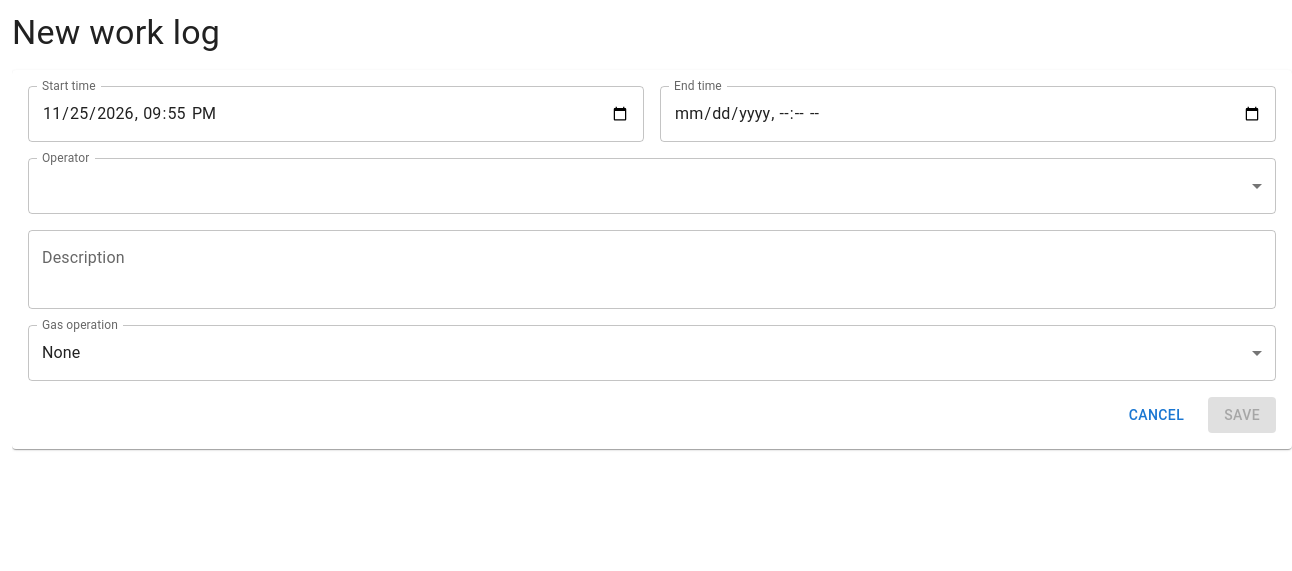
Test case: WorkLogPage › blocks a gas operation when the locked refrigerator was replaced
The width and height of the screenshot is (1292, 571).
Expected: the heading "New work log" is shown, x1=12 y1=12 x2=220 y2=52
Press the mouse on the dropdown named "Gas operation": (61, 353) x1=42 y1=344 x2=80 y2=362
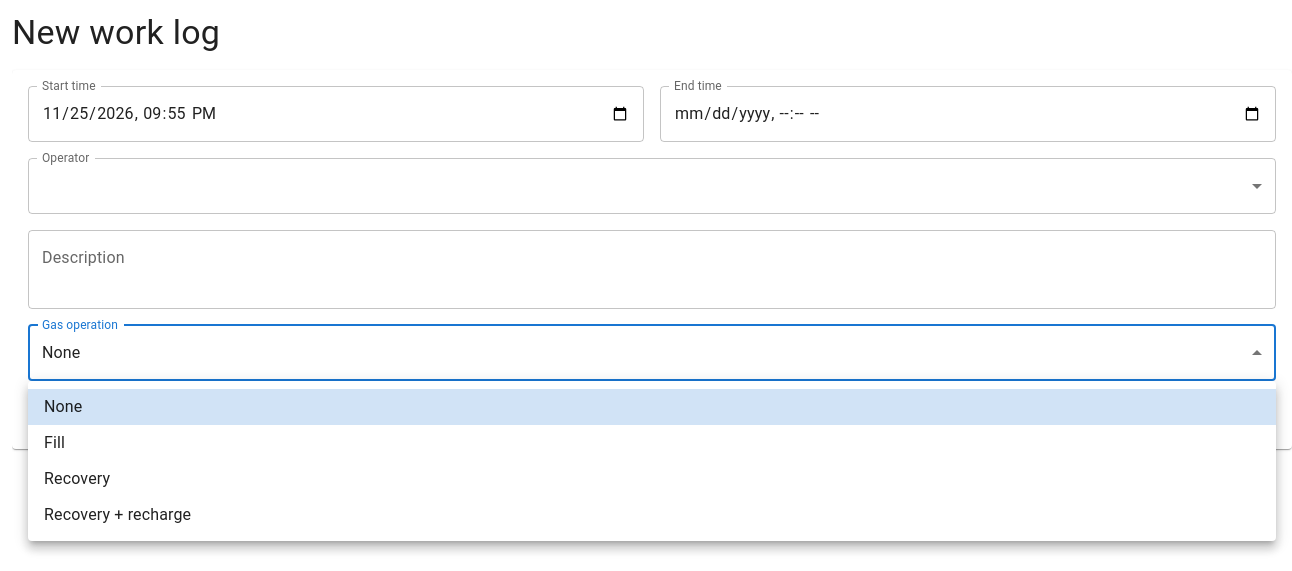
Click the option "Recovery": (77, 478) x1=44 y1=469 x2=110 y2=488
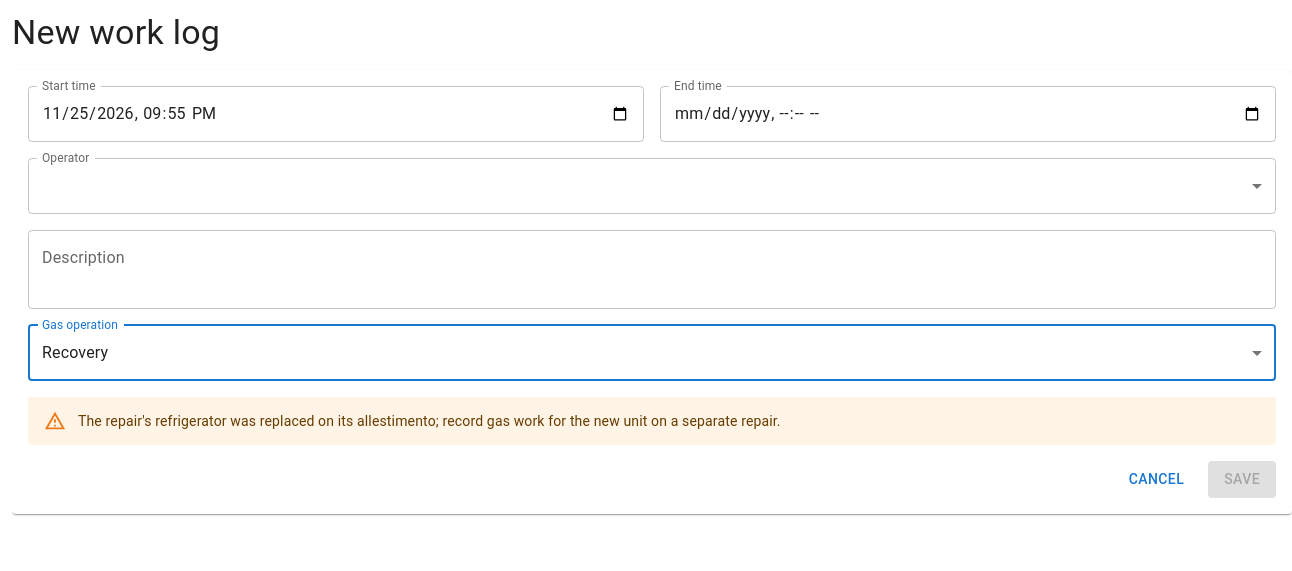
Expected: the text "replaced on its allestimento" is shown, x1=78 y1=413 x2=781 y2=429
